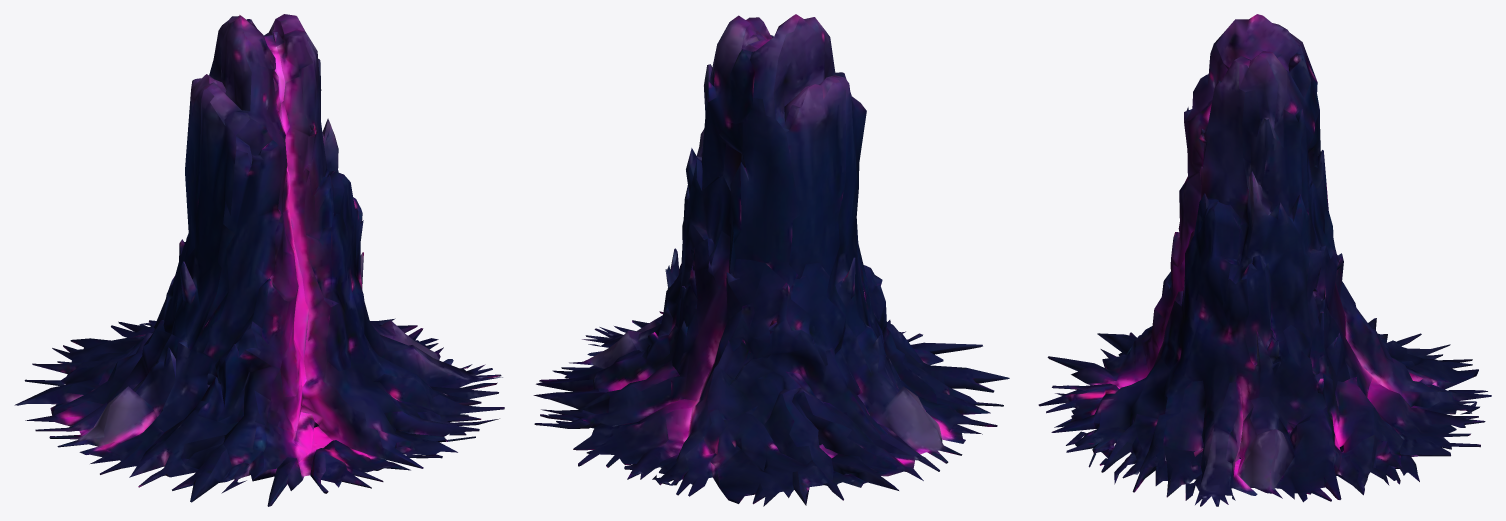
File: yggdrasil-root-south.collider.glb
3 views of the same model, side by side, from view 1: azimuth 30°, elevation 25°; view 2: azimuth 150°, elevation 25°; view 3: azimuth 270°, elevation 25° (orthographic). The views are drawn at different scales.
Parts seen in each view (by area): view 1: temp_mesh.ply; view 2: temp_mesh.ply; view 3: temp_mesh.ply.
Part boxes in pixels (<box>): temp_mesh.ply: <box>14,14,504,506</box>; temp_mesh.ply: <box>533,14,1009,506</box>; temp_mesh.ply: <box>1038,14,1491,506</box>.
Size of the model in its own units: 1.97 by 1.83 by 1.96.
1 material, 1 textured.
